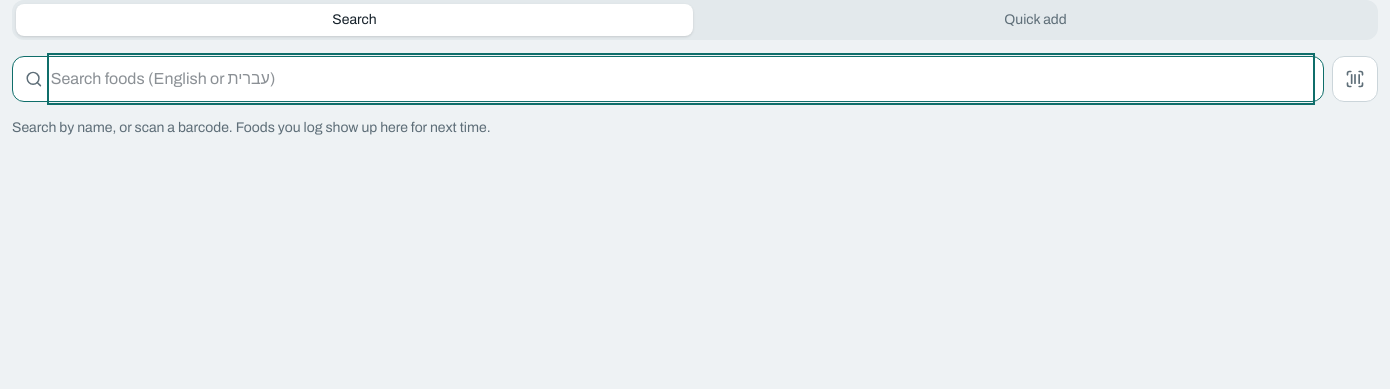
Test: AddFood › searches the database right away on Enter and names failed sources
Type "hum" into the search field labelled "Search foods".
click(681, 79); type("hum")  # box [51,57,1311,101]
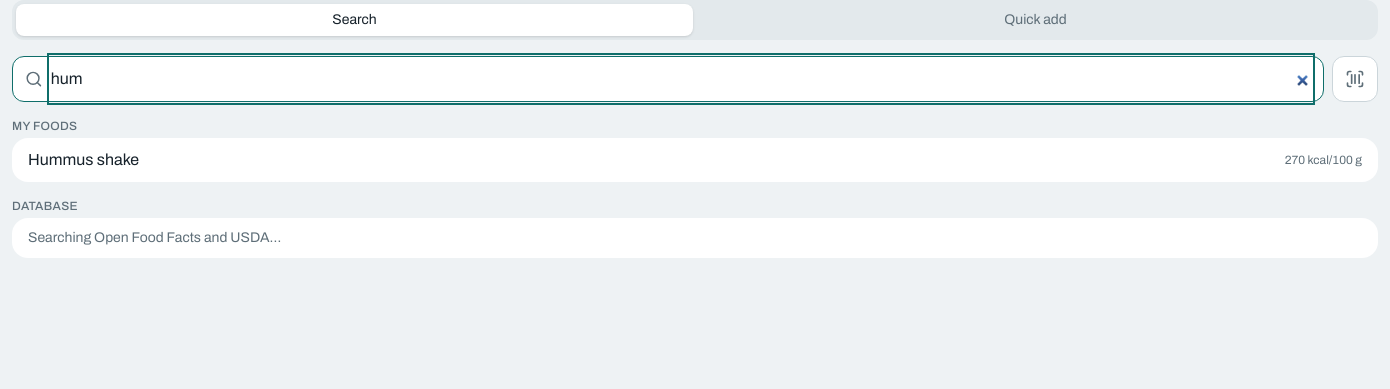
Press Enter
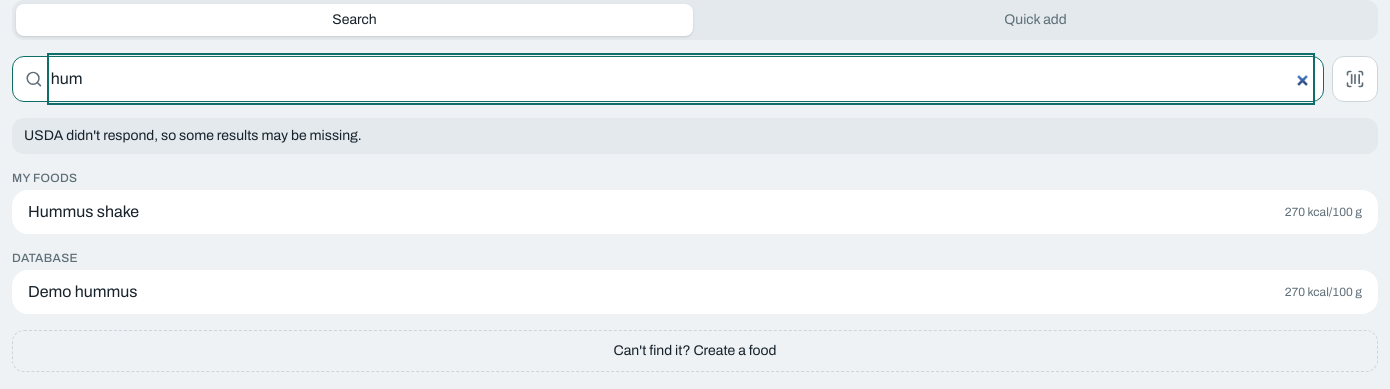
Check: the element "Database" shows "Demo hummus", box [12,270,1378,314]
Check: the text "USDA didn't respond, so some results may be missing." is shown, box [12,118,1378,154]
